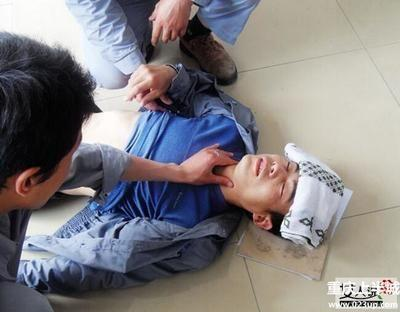Fall-Detected: (21, 40, 339, 299)
